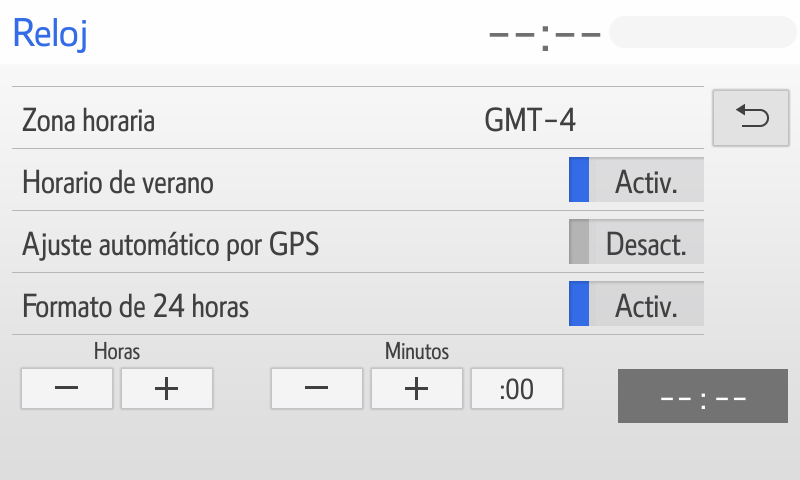touchPart: (6, 268, 706, 341), (8, 205, 705, 278), (9, 82, 705, 154), (9, 144, 708, 213), (118, 362, 224, 421), (706, 84, 792, 151), (369, 362, 466, 417), (16, 365, 114, 419), (270, 361, 363, 414)
untouchPart: (474, 15, 796, 57), (611, 362, 787, 427), (9, 13, 103, 50)
